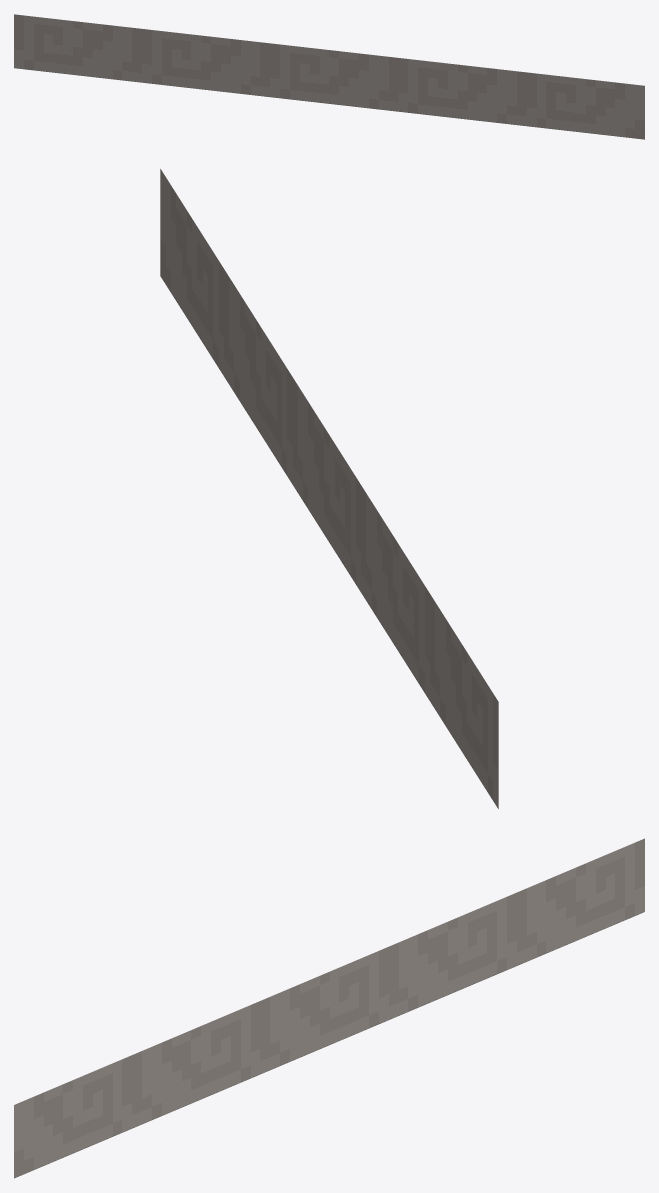
The model's file is kd_stage_135c43_4_96_bounded_piece_1.glb.
3 renders of one model, top to bottom at view 1: azimuth 30°, elevation 25°; view 2: azimuth 150°, elevation 25°; view 3: azimuth 270°, elevation 25°, orthographic. The views are drawn at different scales.
Parts seen in each view (by area): view 1: kd_stage_135c43_4_96_bounded_piece_1; view 2: kd_stage_135c43_4_96_bounded_piece_1; view 3: kd_stage_135c43_4_96_bounded_piece_1.
Boxes of the visible parts, left/top/right/bottom form: kd_stage_135c43_4_96_bounded_piece_1: left=14, top=14, right=644, bottom=139; kd_stage_135c43_4_96_bounded_piece_1: left=160, top=169, right=498, bottom=808; kd_stage_135c43_4_96_bounded_piece_1: left=14, top=838, right=644, bottom=1178.
Size of the model in its own units: 0.6218 by 0.08 by 0.6218.
Materials: 1 (1 with a texture image).
